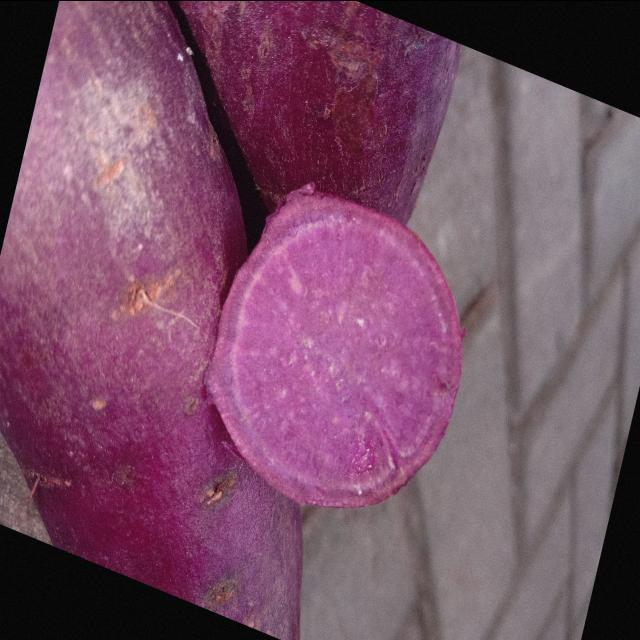Healthy Sweet Potato: (205, 185, 462, 507)
